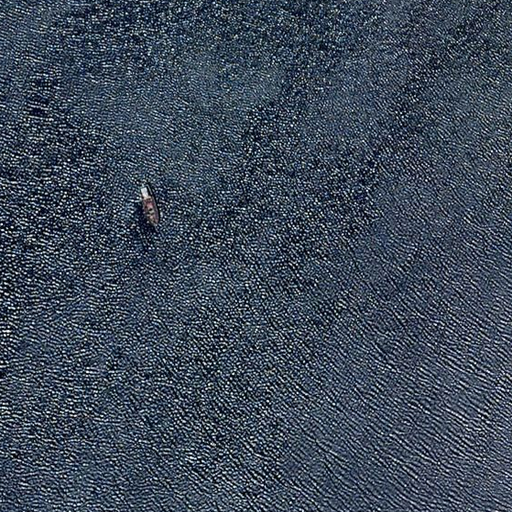ship: (136, 182, 165, 236)
